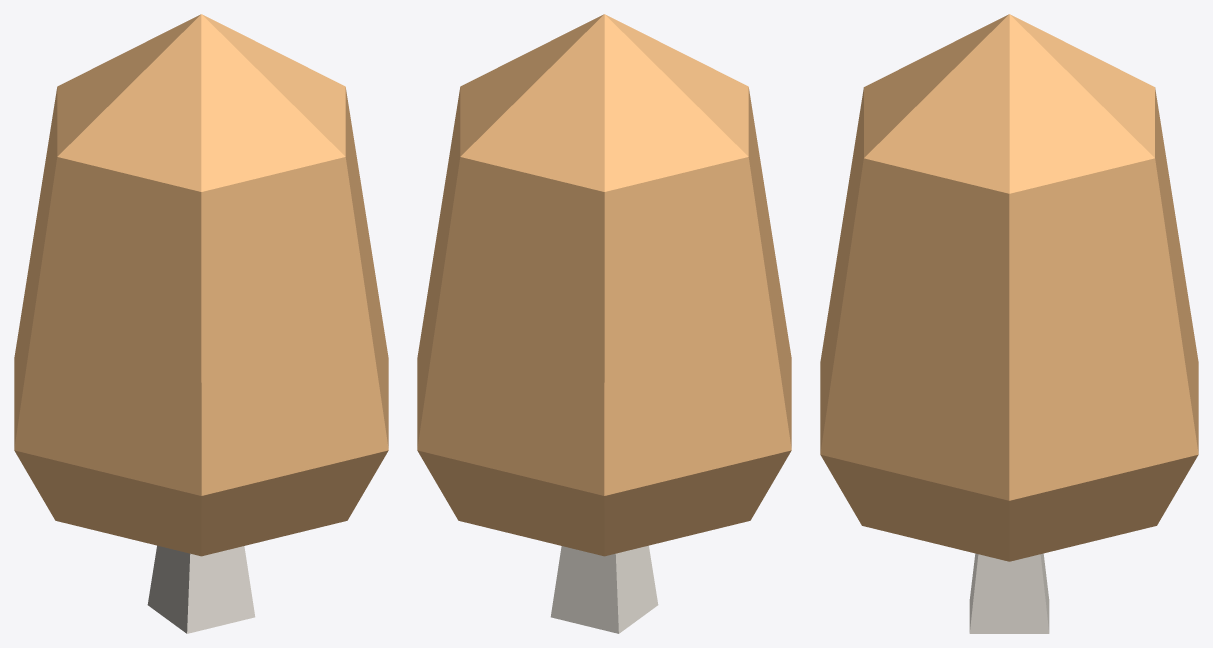
The model's file is tree_fat_fall.glb.
The picture shows the model from 3 angles, left to right: view 1: azimuth 30°, elevation 25°; view 2: azimuth 150°, elevation 25°; view 3: azimuth 270°, elevation 25°; orthographic projection.
Parts seen in each view (by area): view 1: tree_fat_fall; view 2: tree_fat_fall; view 3: tree_fat_fall.
Part boxes in pixels (x1,y1,x2,y2): tree_fat_fall: [14, 14, 388, 633]; tree_fat_fall: [417, 14, 791, 633]; tree_fat_fall: [820, 14, 1198, 633].
Bounding box in the file's own units: 0.755 × 1.15 × 0.6539.
